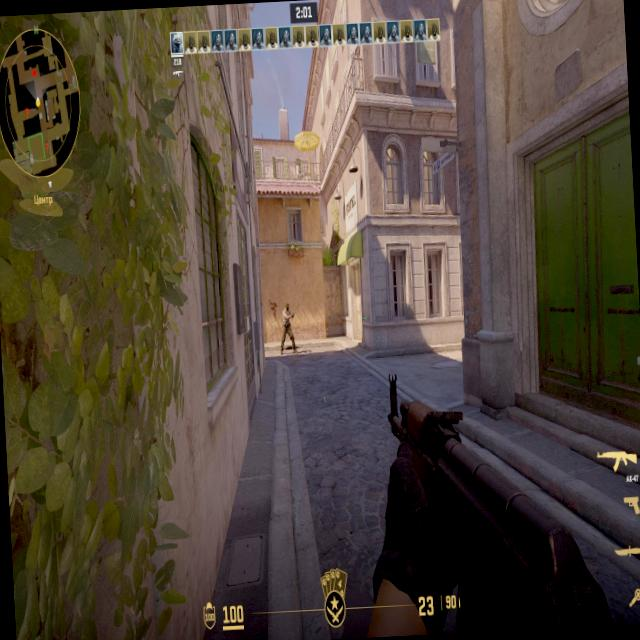T: (283, 301, 292, 346)
T_heat: (282, 310, 288, 320)
